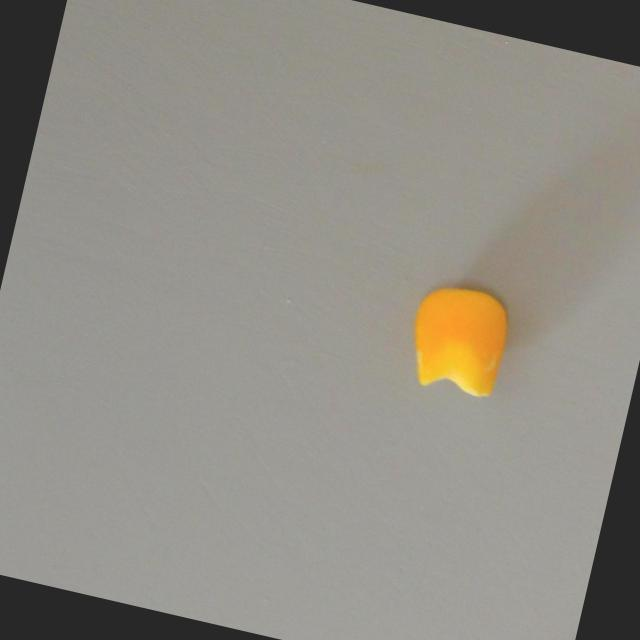no_canjicado: (398, 275, 516, 407)
